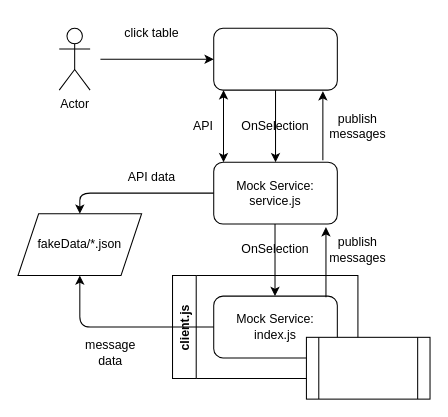
This 448x417 diagram has some shape labels left out. The centre of each missing label's shape, as x and y in pixels:
"Game Client" belongs at pixel 275 58.
"Timer" belongs at pixel 367 367.
